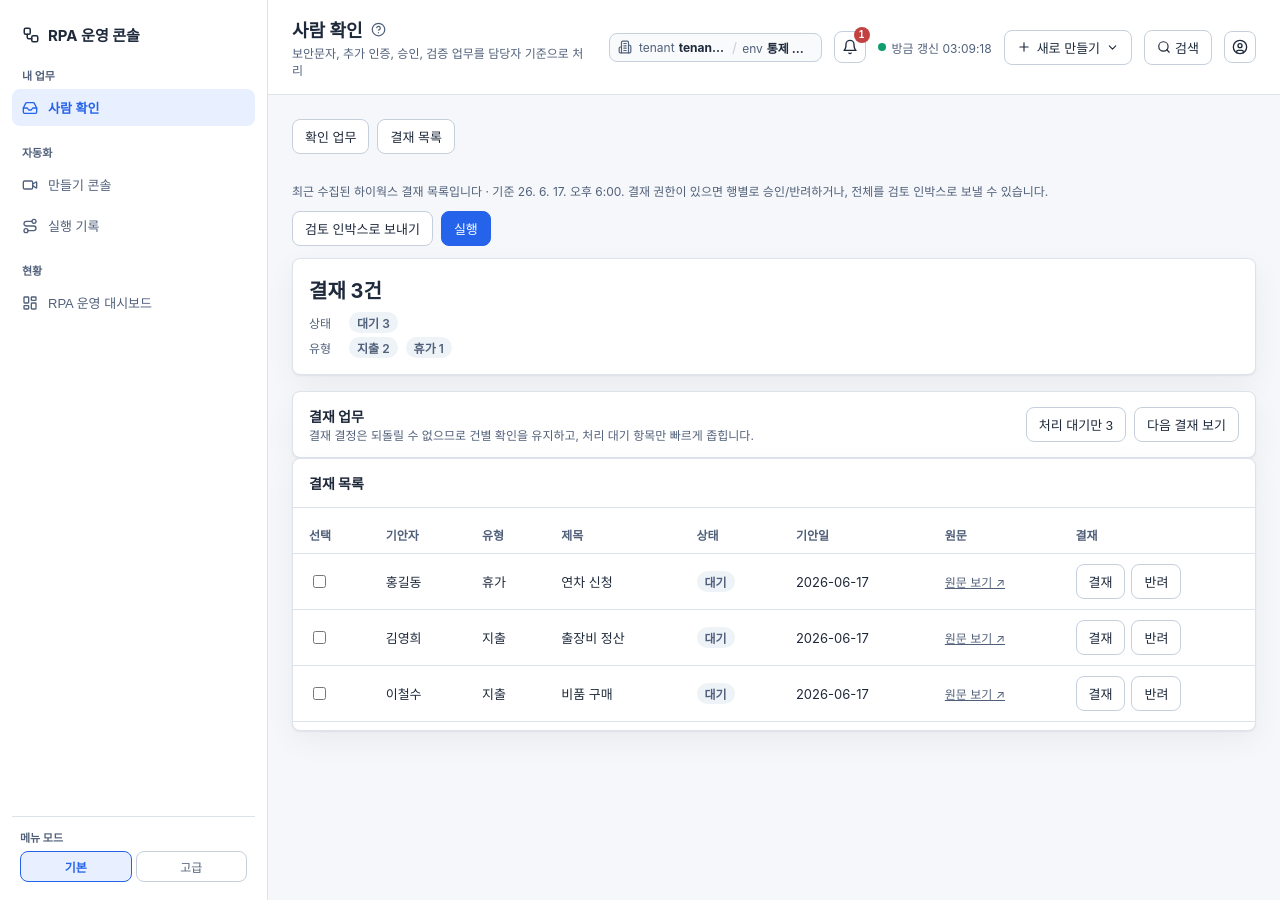
결재 인박스 — 건별 결재(2c) › 일괄 승인 부분 실패 → '성공 N건 · 실패 M건' 집계 + 실패 행 에러 배지
Expected: the text "연차 신청" is shown, [545, 554, 680, 610]
Click the checkbox named "연차 신청 일괄 승인 선택". click: (320, 582)
box: [313, 575, 326, 588]
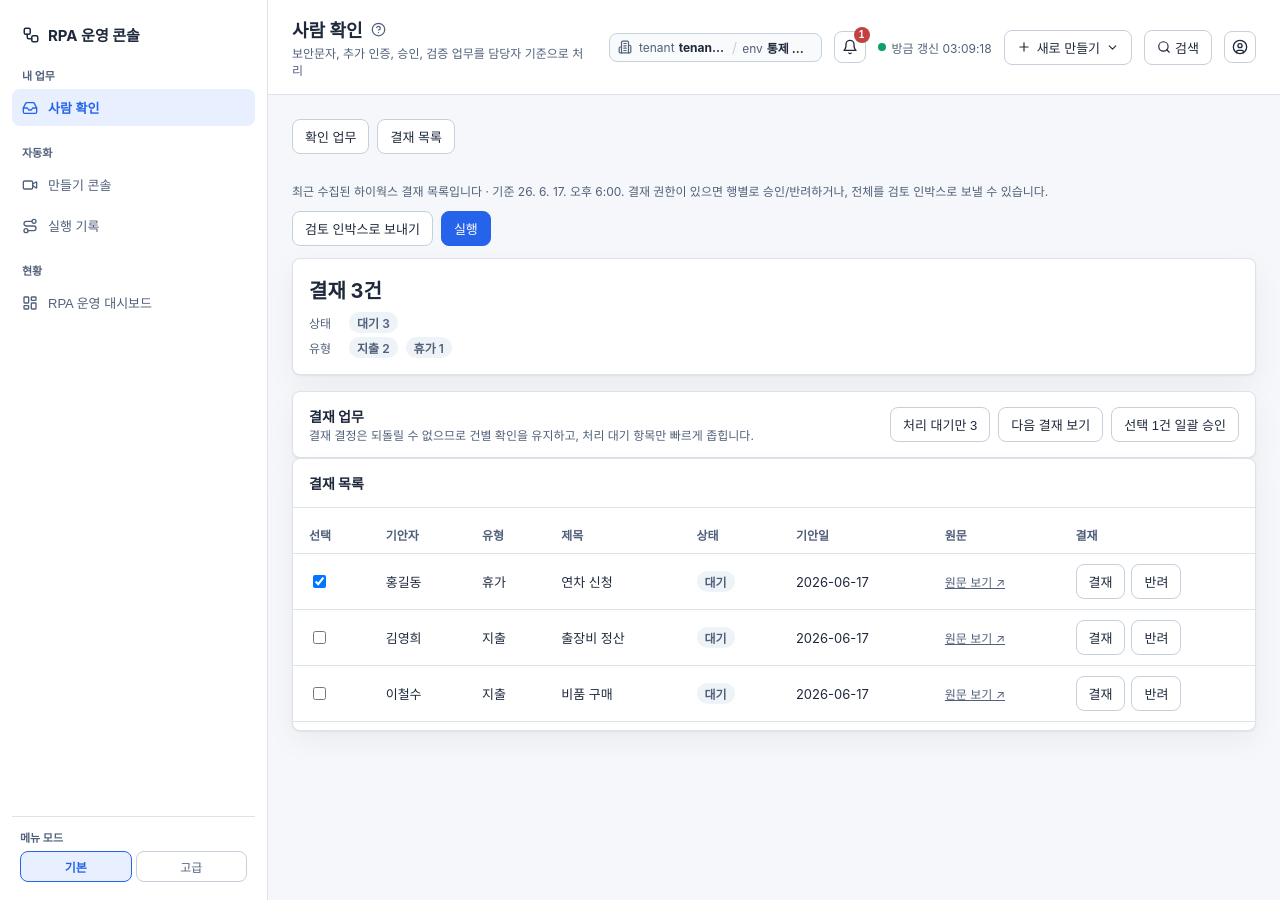
Click the checkbox named "출장비 정산 일괄 승인 선택". click: (320, 638)
box: [313, 631, 326, 644]
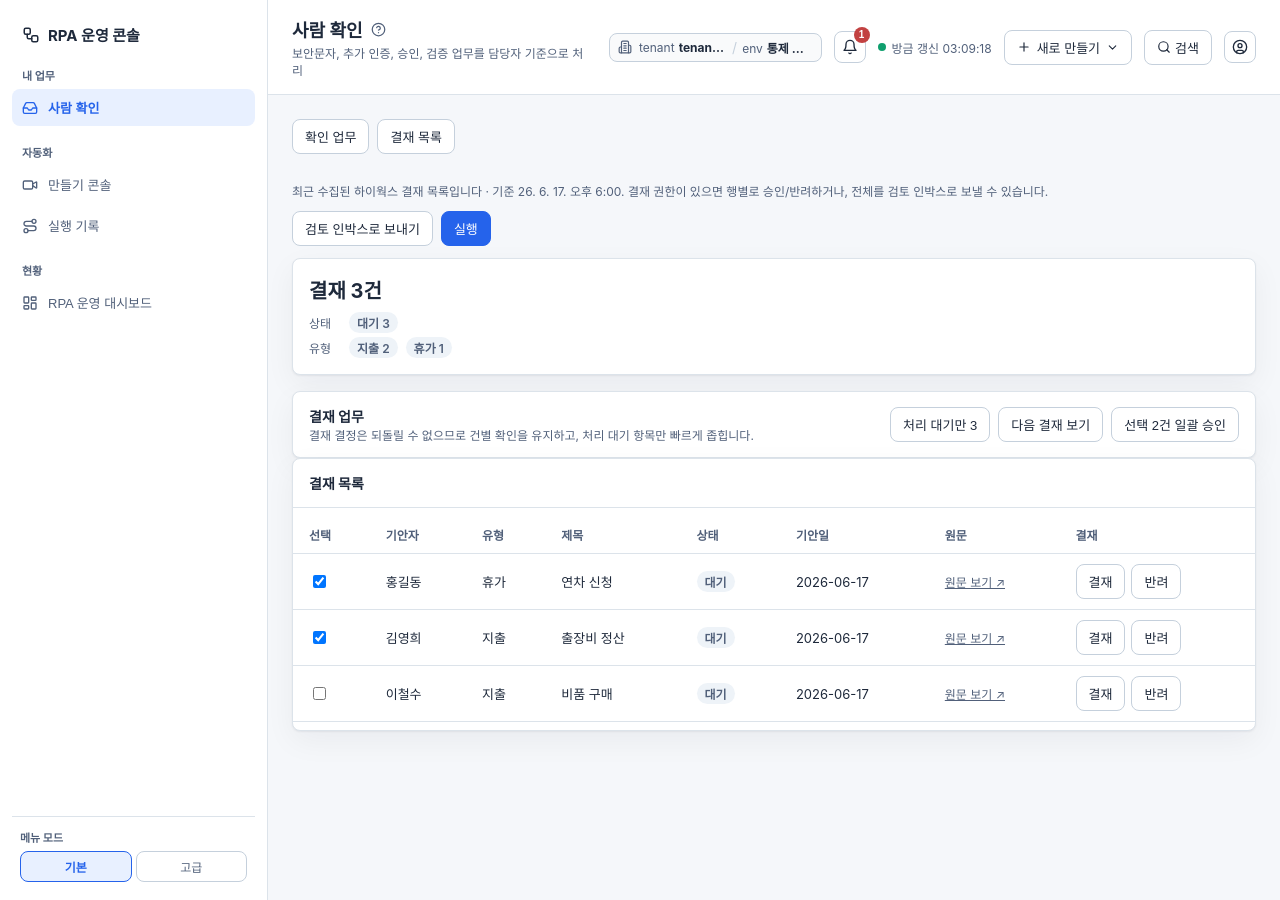
Click the button "선택 2건 일괄 승인". click: (1175, 424)
box: [1111, 407, 1239, 442]
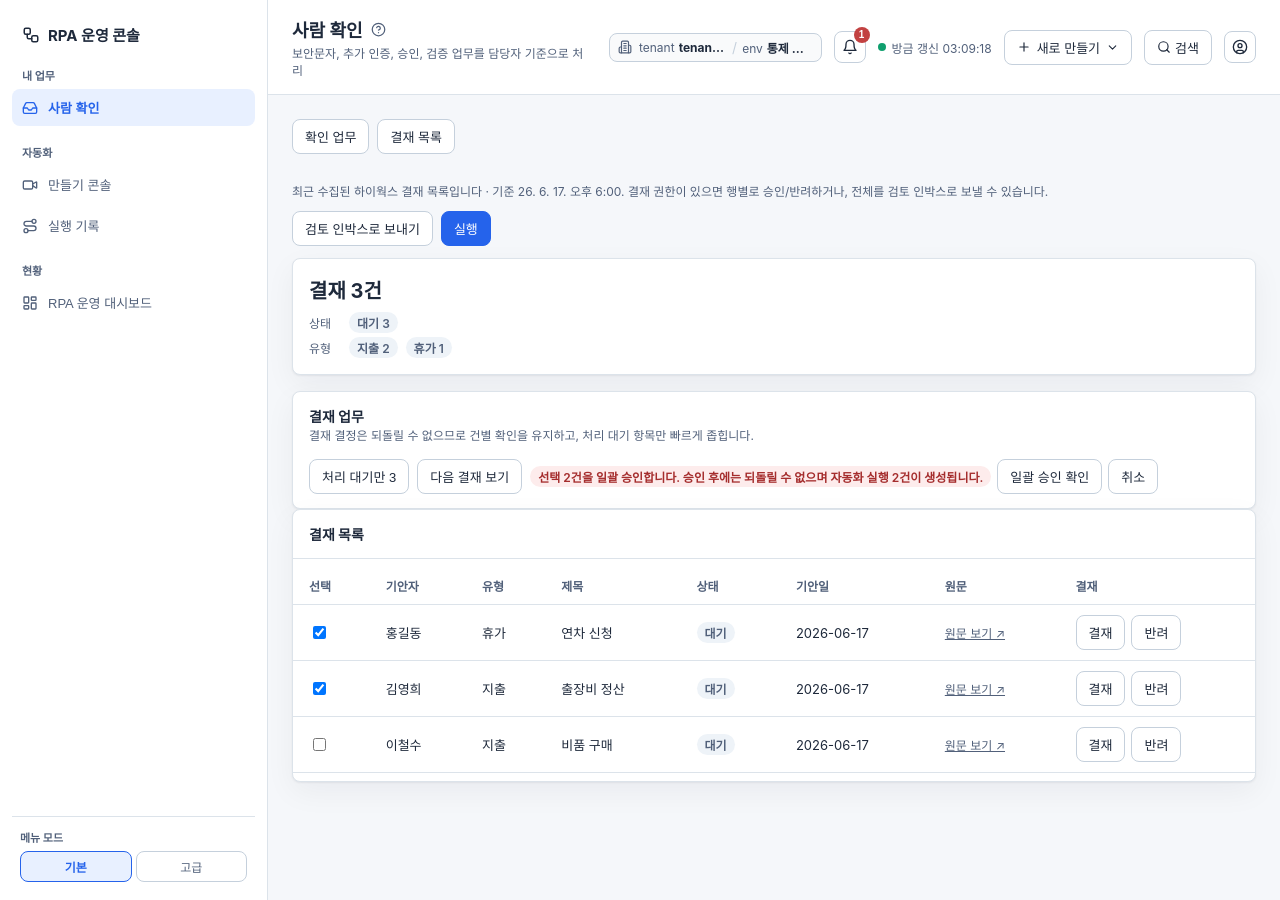
Click the button "일괄 승인 확인". click: (1050, 476)
box: [997, 459, 1102, 494]
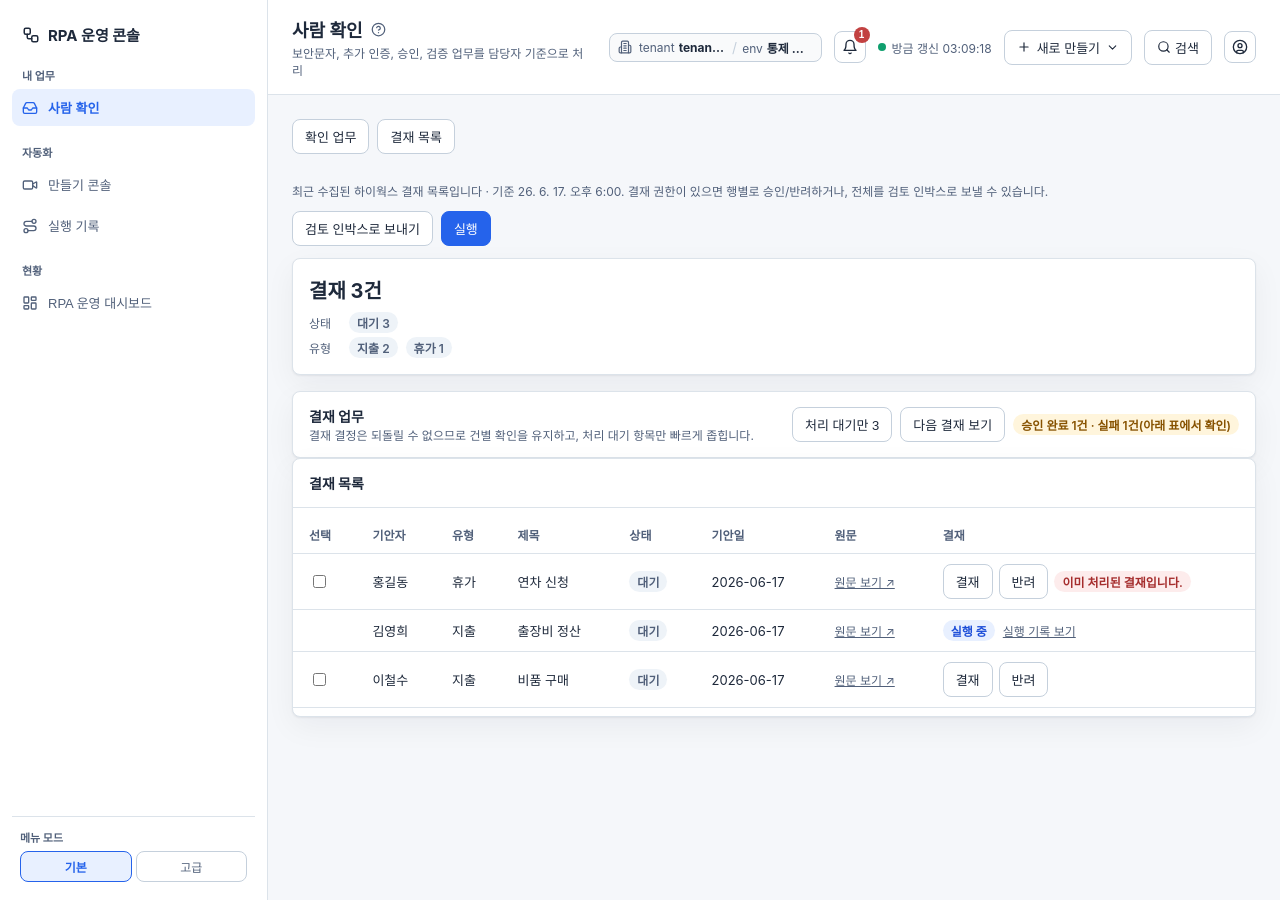
Expected: the text "승인 완료 1건 · 실패 1건(아래 표에서 확인)" is shown, [1013, 414, 1239, 435]
